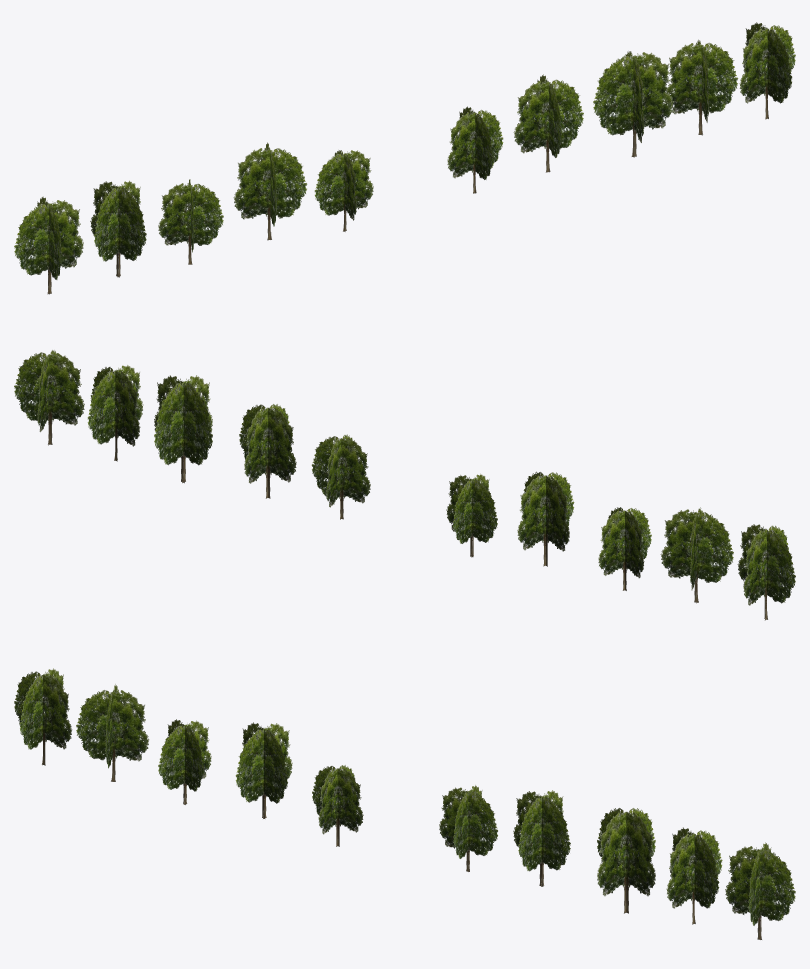
File: tree.fbx
The picture shows the model from 3 angles, top to bottom: view 1: azimuth 30°, elevation 25°; view 2: azimuth 150°, elevation 25°; view 3: azimuth 330°, elevation 25°; orthographic projection.
Visible parts, largest first — view 1: pPlane27, pPlane19, pPlane28, pPlane25, pPlane12, pPlane17, pPlane21, pPlane15, pPlane23, pPlane31, pPlane14, pPlane30 (+6 smaller); view 2: pPlane14, pPlane31, pPlane27, pPlane26, pPlane23, pPlane12, pPlane25, pPlane18, pPlane29, pPlane16, pPlane21, pPlane28 (+8 smaller); view 3: pPlane14, pPlane31, pPlane23, pPlane26, pPlane27, pPlane12, pPlane25, pPlane18, pPlane29, pPlane16, pPlane21, pPlane19 (+7 smaller).
Boxes of the visible parts, x1,y1,x2,y2 form: pPlane27: (593, 52, 673, 156); pPlane19: (233, 148, 307, 240); pPlane28: (666, 42, 738, 134); pPlane25: (513, 79, 583, 172); pPlane12: (14, 200, 83, 294); pPlane17: (158, 183, 223, 264); pPlane21: (314, 150, 373, 231); pPlane15: (90, 181, 146, 277); pPlane23: (447, 109, 503, 193); pPlane31: (739, 25, 795, 119); pPlane14: (94, 180, 143, 277); pPlane30: (743, 22, 792, 118); pPlane14: (660, 509, 733, 602); pPlane31: (14, 352, 84, 444); pPlane27: (154, 375, 212, 483); pPlane26: (154, 375, 212, 483); pPlane23: (311, 436, 370, 519); pPlane12: (737, 524, 795, 619); pPlane25: (239, 404, 296, 498); pPlane18: (517, 472, 574, 566); pPlane29: (87, 365, 143, 460); pPlane16: (598, 508, 651, 590); pPlane21: (446, 475, 497, 557); pPlane28: (90, 367, 140, 461); pPlane14: (76, 690, 149, 781); pPlane31: (725, 846, 795, 939); pPlane23: (439, 787, 497, 871); pPlane26: (597, 808, 655, 913); pPlane27: (597, 808, 655, 913); pPlane12: (14, 671, 72, 765); pPlane25: (513, 791, 570, 886); pPlane18: (235, 723, 292, 818); pPlane29: (666, 830, 722, 924); pPlane16: (158, 720, 211, 804); pPlane21: (312, 766, 363, 846); pPlane19: (242, 722, 288, 818).
Bounding box in the file's own units: 85.44 × 11.22 × 7.66.
Materials: 1 (1 with a texture image).
